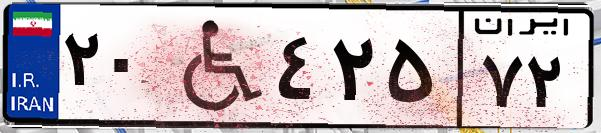0: (110, 28, 158, 98)
2: (330, 28, 385, 110), (57, 26, 110, 100), (525, 38, 570, 115)
4: (270, 28, 330, 110)
5: (385, 28, 445, 110)
7: (475, 38, 525, 113)
ژ (معلولین و جانبازان): (158, 12, 270, 120)
